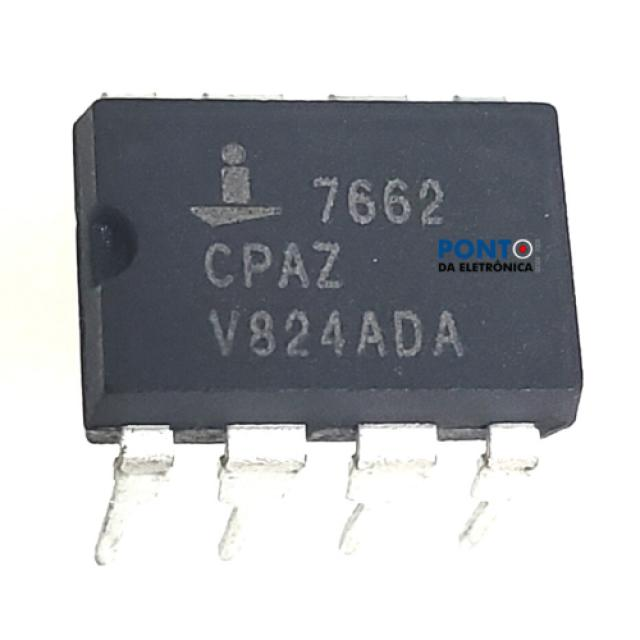IC: (45, 84, 586, 518)
